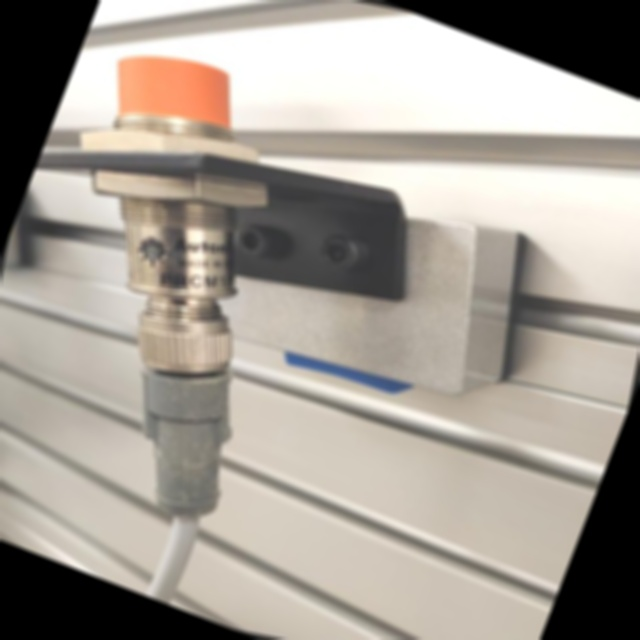inductive sensor: (0, 0, 639, 640)
